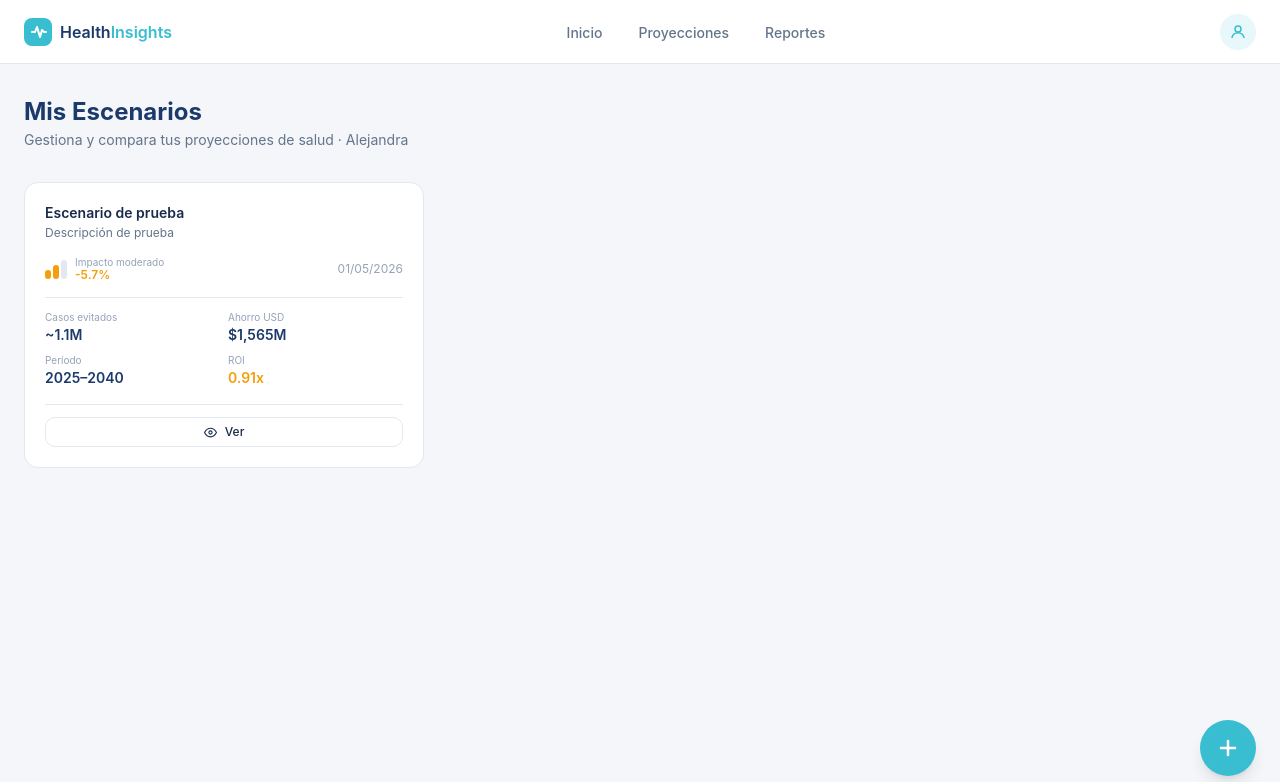
Test: FinanzasProyeccionesPage › vuelve a la lista al hacer clic en Volver
Expected: the heading "Escenario de prueba" is shown, [45,204,184,221]
Click the button "Ver": (224, 432) [45,417,403,447]
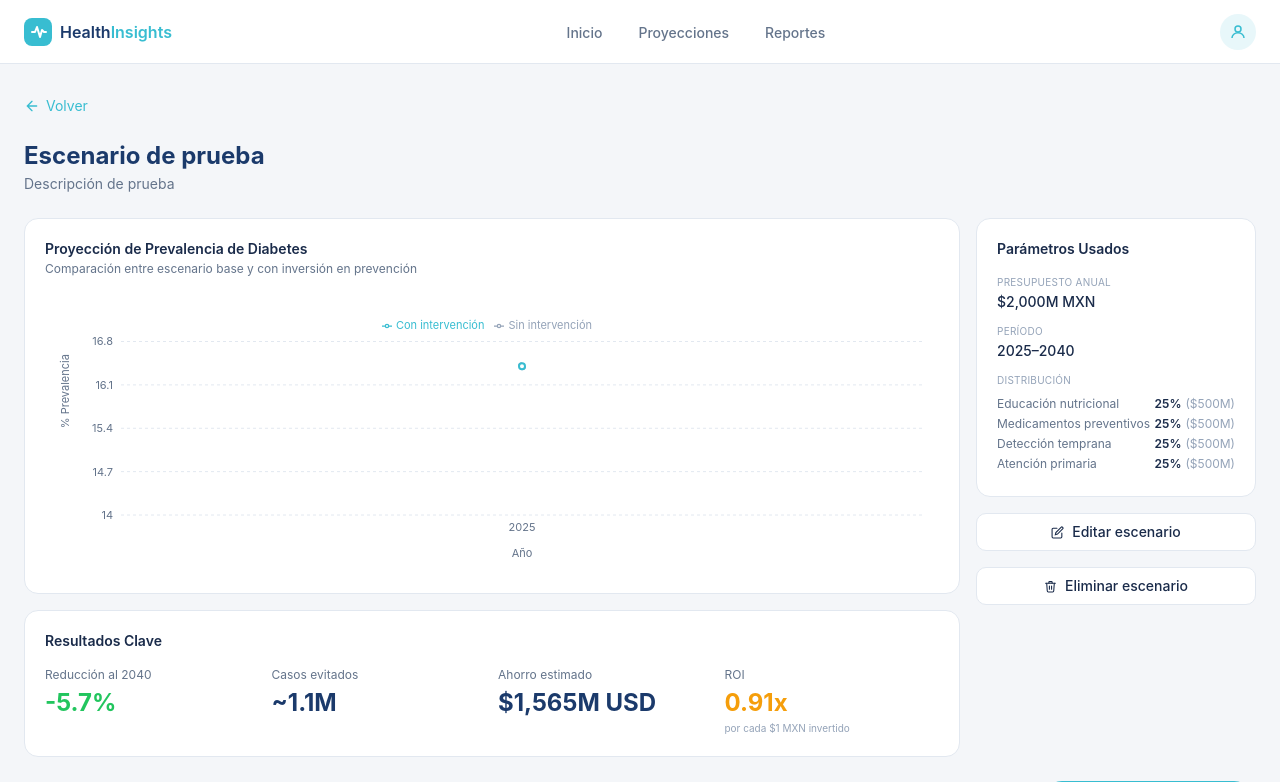
Now the button "Volver" is shown
Click the button "Volver": (56, 106) [24,96,88,116]
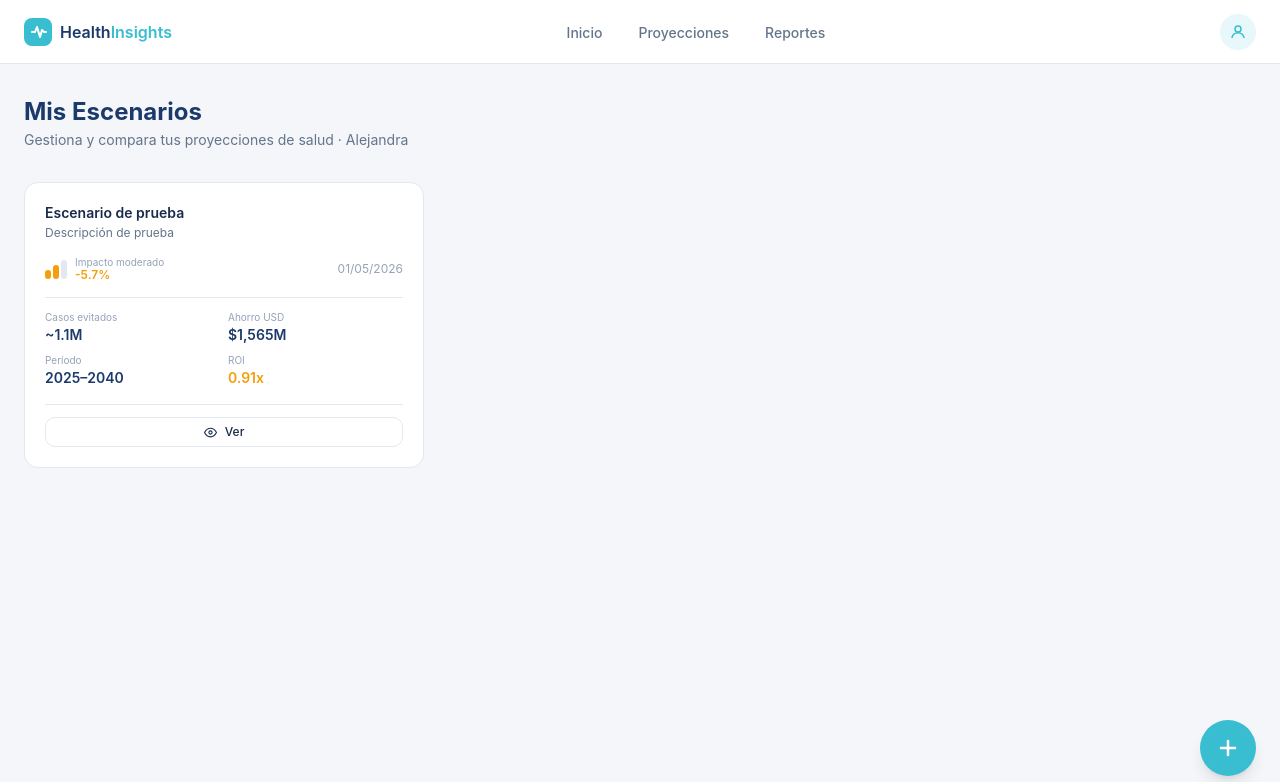
Now the heading "Mis Escenarios" is shown, box [24,97,202,126]
